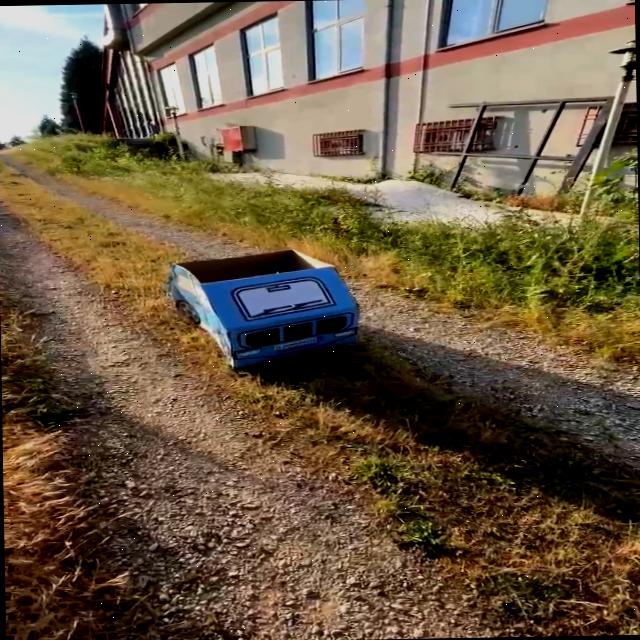blue_car: (108, 220, 437, 403)
